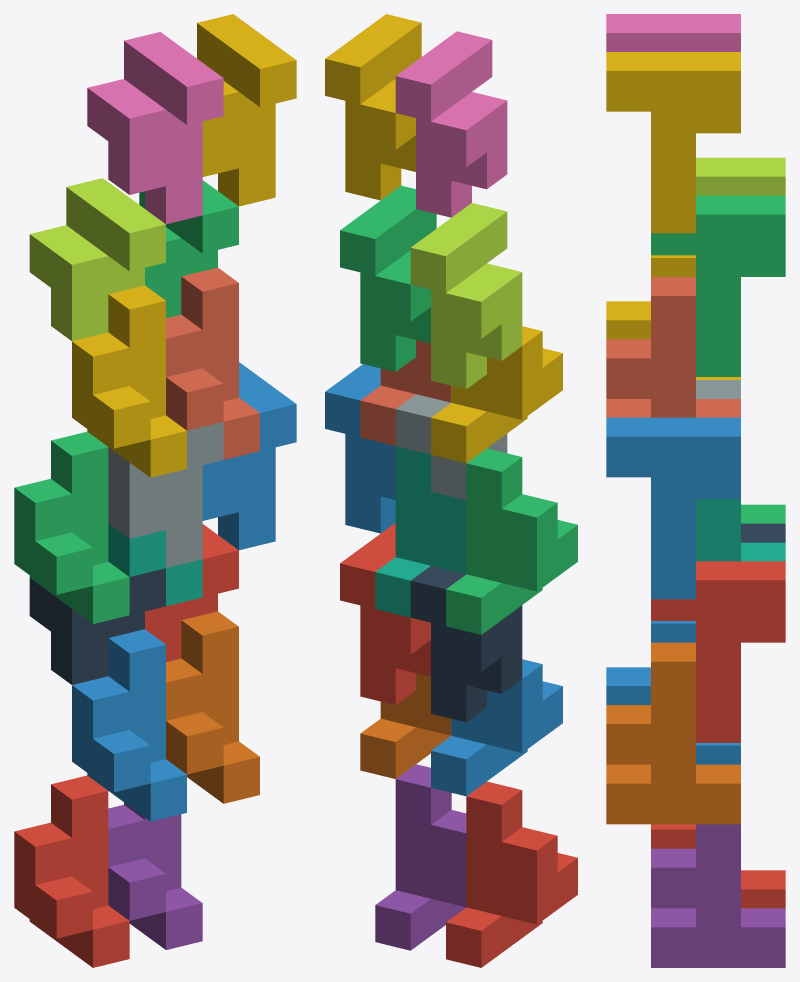
Rendered from tiling.obj.
3 views of the same model, side by side, from view 1: azimuth 30°, elevation 25°; view 2: azimuth 150°, elevation 25°; view 3: azimuth 270°, elevation 25° (orthographic). The views are drawn at different scales.
Parts seen in each view (by area): view 1: copy_2_domain_4, copy_1_domain_3, copy_1_domain_1, copy_1_domain_2, copy_1_domain_4, copy_2_domain_3, copy_2_domain_8, copy_1_domain_6, copy_1_domain_8, copy_1_domain_5, copy_2_domain_6, copy_2_domain_2 (+4 smaller); view 2: copy_1_domain_1, copy_1_domain_3, copy_2_domain_4, copy_2_domain_3, copy_2_domain_8, copy_1_domain_5, copy_2_domain_7, copy_2_domain_1, copy_1_domain_2, copy_1_domain_4, copy_1_domain_7, copy_2_domain_5 (+4 smaller); view 3: copy_1_domain_6, copy_2_domain_6, copy_1_domain_5, copy_2_domain_8, copy_2_domain_7, copy_2_domain_5, copy_1_domain_8, copy_2_domain_4, copy_1_domain_7, copy_1_domain_2, copy_2_domain_3, copy_1_domain_1 (+4 smaller).
Boxes of the visible parts, <box> form: copy_2_domain_4: <box>87,32,223,224</box>; copy_1_domain_3: <box>14,431,129,623</box>; copy_1_domain_1: <box>14,775,129,967</box>; copy_1_domain_2: <box>72,629,186,821</box>; copy_1_domain_4: <box>72,285,186,477</box>; copy_2_domain_3: <box>29,178,165,341</box>; copy_2_domain_8: <box>197,14,296,206</box>; copy_1_domain_6: <box>166,611,259,803</box>; copy_1_domain_8: <box>166,267,259,459</box>; copy_1_domain_5: <box>108,802,202,949</box>; copy_2_domain_6: <box>202,362,296,550</box>; copy_2_domain_2: <box>108,422,223,567</box>; copy_1_domain_1: <box>446,781,577,967</box>; copy_1_domain_3: <box>446,448,577,634</box>; copy_2_domain_4: <box>395,31,507,217</box>; copy_2_domain_3: <box>410,203,522,389</box>; copy_2_domain_8: <box>325,14,421,200</box>; copy_1_domain_5: <box>375,764,466,950</box>; copy_2_domain_7: <box>340,185,436,371</box>; copy_2_domain_1: <box>410,566,522,722</box>; copy_1_domain_2: <box>431,659,562,796</box>; copy_1_domain_4: <box>431,326,562,463</box>; copy_1_domain_7: <box>375,446,466,617</box>; copy_2_domain_5: <box>340,523,430,704</box>; copy_1_domain_6: <box>606,642,740,824</box>; copy_2_domain_6: <box>606,417,740,599</box>; copy_1_domain_5: <box>651,824,785,967</box>; copy_2_domain_8: <box>606,52,740,233</box>; copy_2_domain_7: <box>651,195,785,376</box>; copy_2_domain_5: <box>651,561,785,742</box>; copy_1_domain_8: <box>606,277,740,417</box>; copy_2_domain_4: <box>606,14,740,51</box>; copy_1_domain_7: <box>696,499,785,561</box>; copy_1_domain_2: <box>606,621,740,764</box>; copy_2_domain_3: <box>696,157,785,195</box>; copy_1_domain_1: <box>651,824,785,908</box>.
Bounding box in the file's own units: 6 × 23 × 4.
